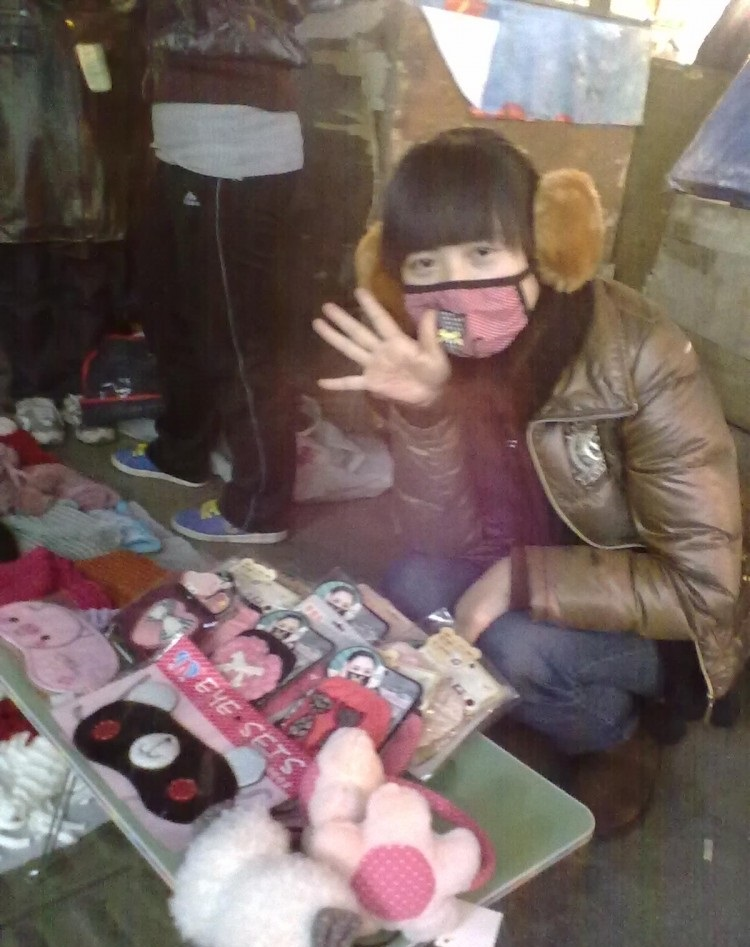face_mask: (402, 206, 525, 366)
